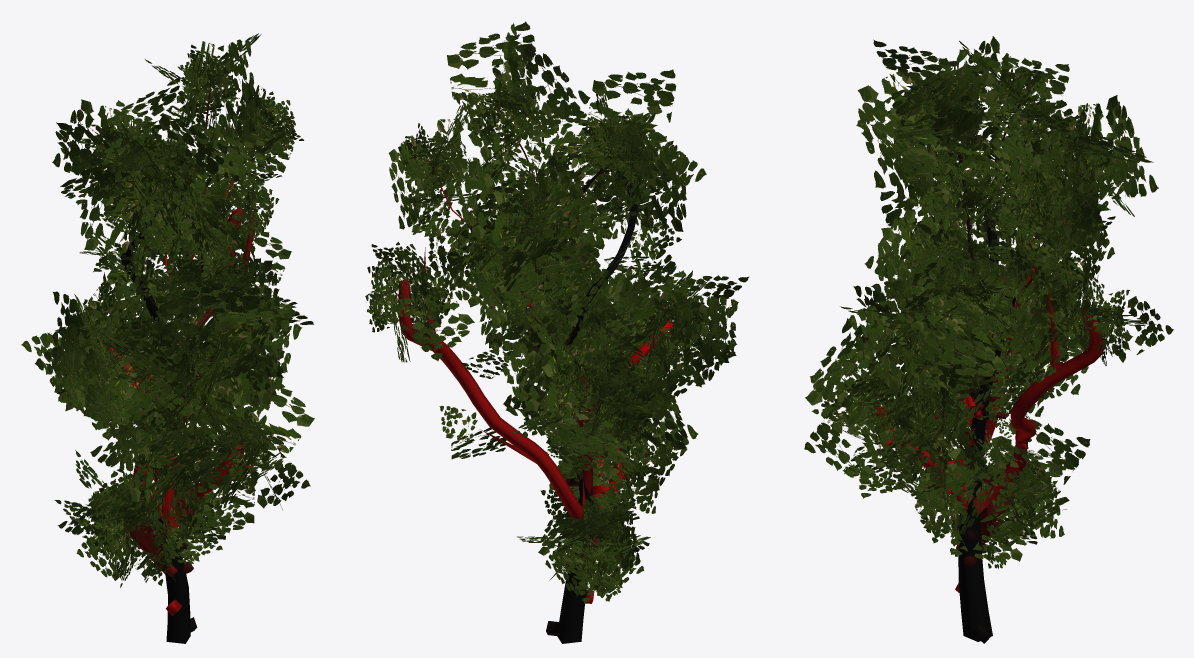
Rendered from Tree_3.fbx.
3 views of the same model, side by side, from view 1: azimuth 30°, elevation 25°; view 2: azimuth 150°, elevation 25°; view 3: azimuth 270°, elevation 25° (orthographic). The views are drawn at different scales.
Visible parts, largest first — view 1: Tree_31; view 2: Tree_31; view 3: Tree_31.
Boxes of the visible parts, x1=… form: Tree_31: x1=21, y1=33, x2=314, y2=643; Tree_31: x1=365, y1=21, x2=749, y2=643; Tree_31: x1=804, y1=36, x2=1173, y2=643.
Bounding box in the file's own units: 640 × 1165 × 663.
